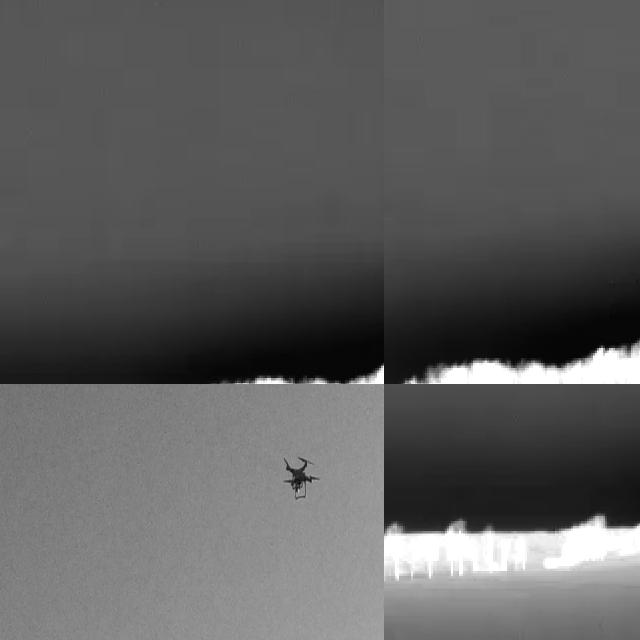drone: (281, 454, 316, 499)
